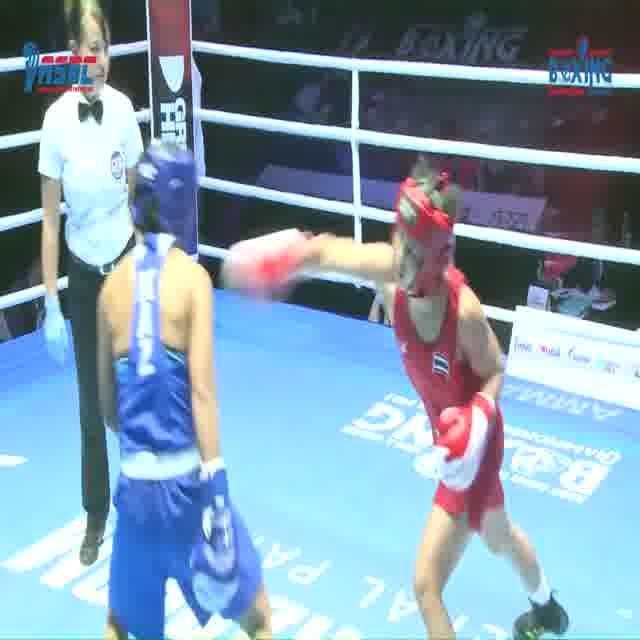blue-player: (93, 137, 281, 640)
red-player: (220, 154, 570, 640)
referee: (32, 0, 150, 574)
